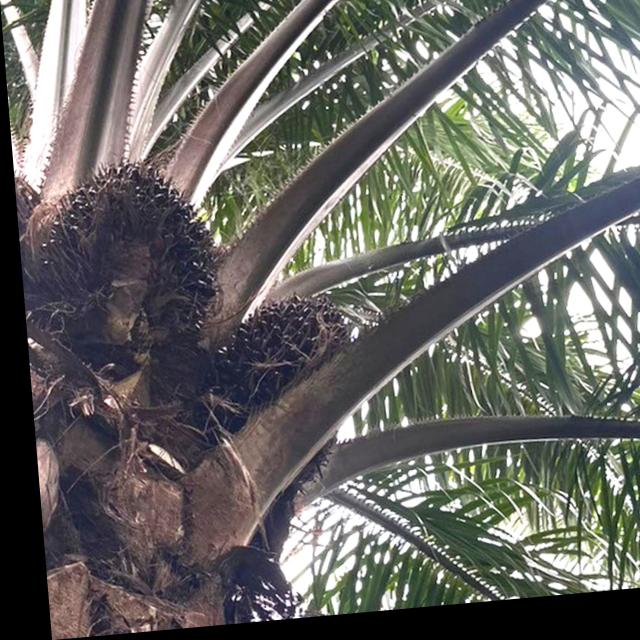almost: (11, 147, 222, 368), (202, 290, 359, 506)
